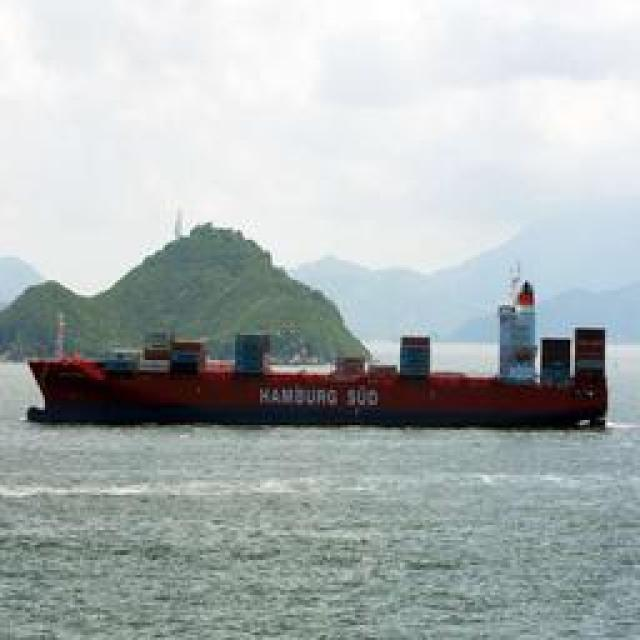CIV_Ship: (22, 328, 610, 428)
